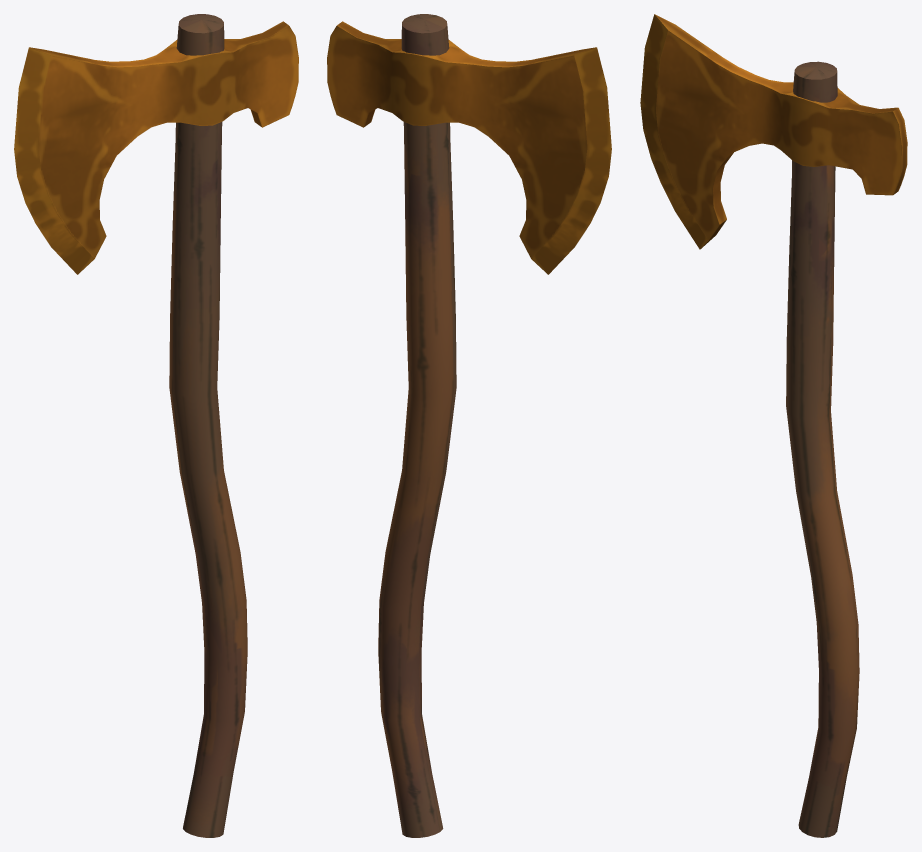
Rendered from Axe_Bronze.gltf.
3 views of the same model, side by side, from view 1: azimuth 30°, elevation 25°; view 2: azimuth 150°, elevation 25°; view 3: azimuth 330°, elevation 25° (orthographic). The views are drawn at different scales.
Visible parts, largest first — view 1: Axe_Bronze; view 2: Axe_Bronze; view 3: Axe_Bronze.
Boxes of the visible parts, <box> form: Axe_Bronze: <box>14,14,298,837</box>; Axe_Bronze: <box>327,14,611,837</box>; Axe_Bronze: <box>640,14,907,837</box>.
Bounding box in the file's own units: 0.2945 × 0.8269 × 0.046.
1 material, 1 textured.
